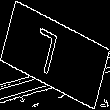L_S: (39, 26, 71, 84)
